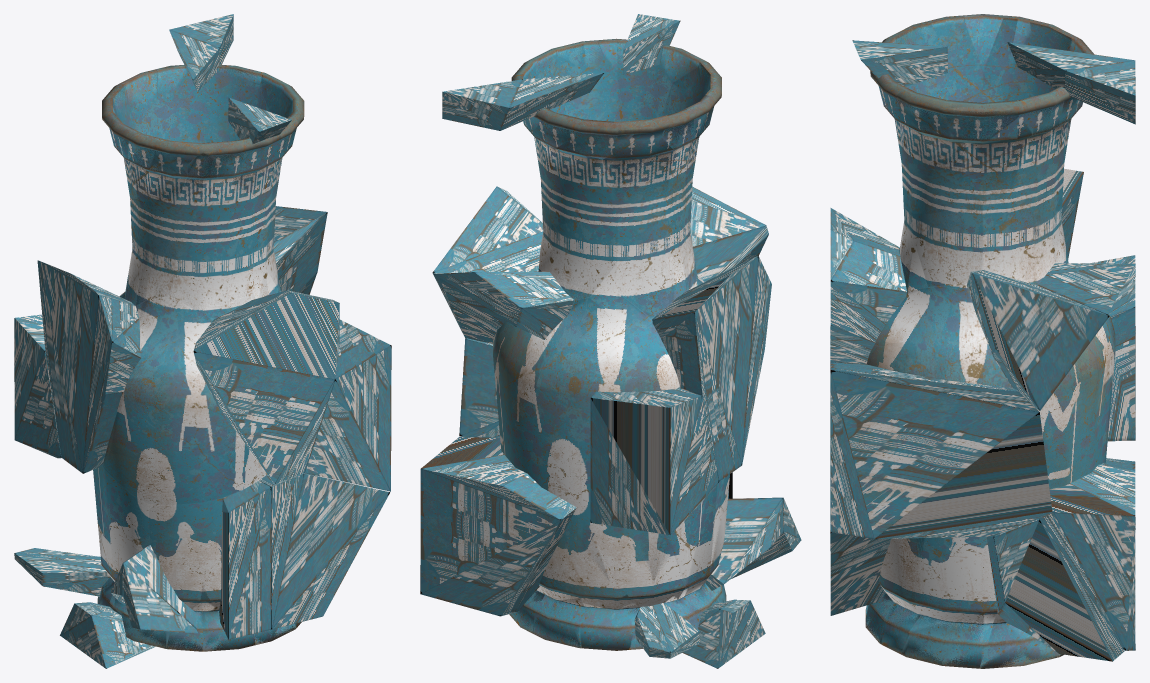
3 renders of one model, left to right at view 1: azimuth 30°, elevation 25°; view 2: azimuth 150°, elevation 25°; view 3: azimuth 270°, elevation 25°, orthographic. The views are drawn at different scales.
Visible parts, largest first — view 1: vase_A_S5, vase_A_S5_cell.081, vase_A_S5_cell.017, vase_A_S5_cell.050, vase_A_S5_cell.041, vase_A_S5_cell.052, vase_A_S5_cell.006, vase_A_S5_cell.066, vase_A_S5_cell.067, vase_A_S5_cell.115, vase_A_S5_cell.068, vase_A_S5_cell.075 (+24 smaller); view 2: vase_A_S5, vase_A_S5_cell.038, vase_A_S5_cell.066, vase_A_S5_cell.017, vase_A_S5_cell.068, vase_A_S5_cell.046, vase_A_S5_cell.011, vase_A_S5_cell.037, vase_A_S5_cell.054, vase_A_S5_cell.081, vase_A_S5_cell.028, vase_A_S5_cell.071 (+24 smaller); view 3: vase_A_S5, vase_A_S5_cell.052, vase_A_S5_cell.038, vase_A_S5_cell.068, vase_A_S5_cell.047, vase_A_S5_cell.081, vase_A_S5_cell.011, vase_A_S5_cell.035, vase_A_S5_cell.094, vase_A_S5_cell.055, vase_A_S5_cell.041, vase_A_S5_cell.037 (+21 smaller).
Part boxes in pixels (x1=…): vase_A_S5: x1=93, y1=64, x2=312, y2=651; vase_A_S5_cell.081: x1=193, y1=290, x2=339, y2=483; vase_A_S5_cell.017: x1=37, y1=260, x2=141, y2=473; vase_A_S5_cell.050: x1=103, y1=392, x2=266, y2=505; vase_A_S5_cell.041: x1=259, y1=473, x2=389, y2=629; vase_A_S5_cell.052: x1=304, y1=319, x2=391, y2=491; vase_A_S5_cell.006: x1=219, y1=481, x2=271, y2=639; vase_A_S5_cell.066: x1=14, y1=314, x2=61, y2=458; vase_A_S5_cell.067: x1=123, y1=545, x2=197, y2=633; vase_A_S5_cell.115: x1=172, y1=248, x2=251, y2=318; vase_A_S5_cell.068: x1=273, y1=206, x2=327, y2=294; vase_A_S5_cell.075: x1=93, y1=466, x2=149, y2=580; vase_A_S5: x1=493, y1=39, x2=726, y2=649; vase_A_S5_cell.038: x1=420, y1=437, x2=576, y2=616; vase_A_S5_cell.066: x1=590, y1=388, x2=718, y2=534; vase_A_S5_cell.017: x1=652, y1=256, x2=771, y2=481; vase_A_S5_cell.068: x1=432, y1=186, x2=543, y2=343; vase_A_S5_cell.046: x1=616, y1=191, x2=675, y2=318; vase_A_S5_cell.011: x1=442, y1=73, x2=603, y2=130; vase_A_S5_cell.037: x1=434, y1=271, x2=574, y2=339; vase_A_S5_cell.054: x1=602, y1=137, x2=686, y2=210; vase_A_S5_cell.081: x1=690, y1=186, x2=768, y2=281; vase_A_S5_cell.028: x1=550, y1=216, x2=614, y2=298; vase_A_S5_cell.071: x1=705, y1=498, x2=783, y2=591; vase_A_S5: x1=865, y1=15, x2=1115, y2=668; vase_A_S5_cell.052: x1=830, y1=362, x2=1052, y2=538; vase_A_S5_cell.038: x1=1039, y1=458, x2=1135, y2=650; vase_A_S5_cell.068: x1=967, y1=270, x2=1109, y2=410; vase_A_S5_cell.047: x1=987, y1=519, x2=1124, y2=661; vase_A_S5_cell.081: x1=830, y1=208, x2=906, y2=373; vase_A_S5_cell.011: x1=1007, y1=42, x2=1135, y2=124; vase_A_S5_cell.035: x1=876, y1=285, x2=991, y2=356; vase_A_S5_cell.094: x1=901, y1=200, x2=982, y2=290; vase_A_S5_cell.055: x1=1036, y1=325, x2=1113, y2=488; vase_A_S5_cell.041: x1=830, y1=523, x2=891, y2=615; vase_A_S5_cell.037: x1=1038, y1=263, x2=1135, y2=314.
Size of the model in its own units: 77.21 by 164 by 76.2.
